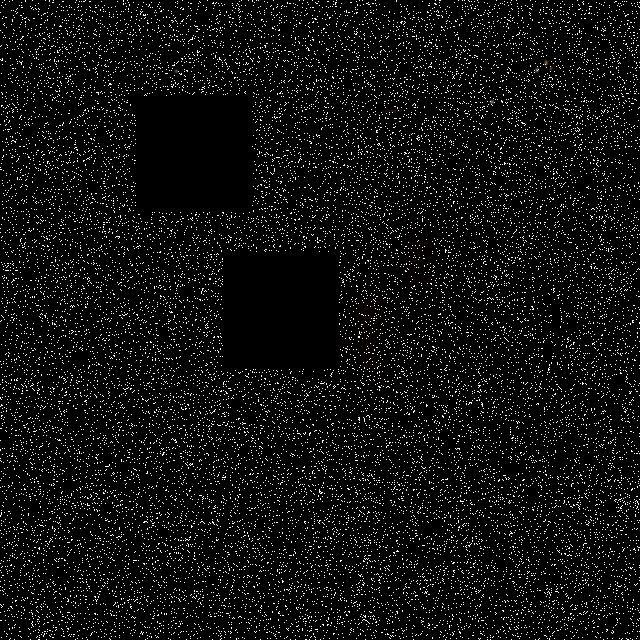QR_CODE: (82, 165, 302, 348), (372, 298, 502, 402), (419, 174, 549, 274)
